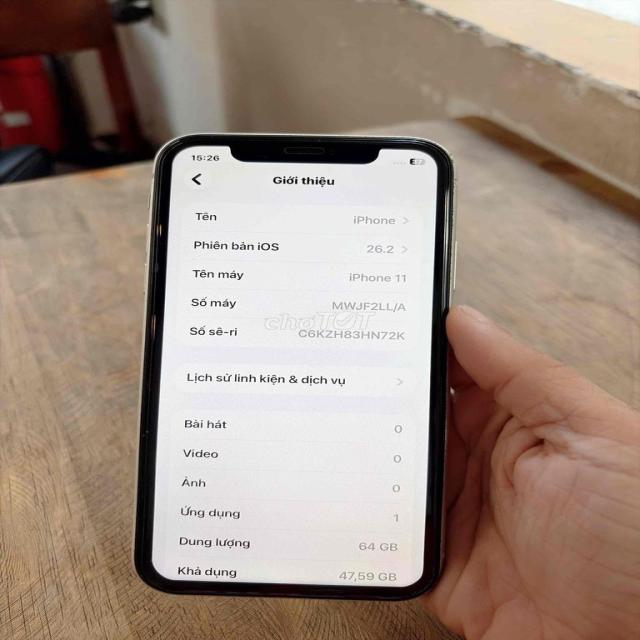gen_11: (128, 124, 459, 606)
